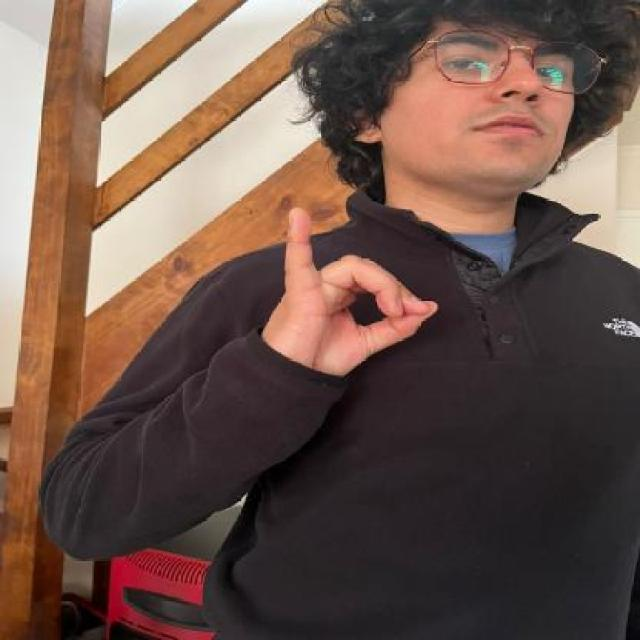D: (259, 196, 446, 370)
